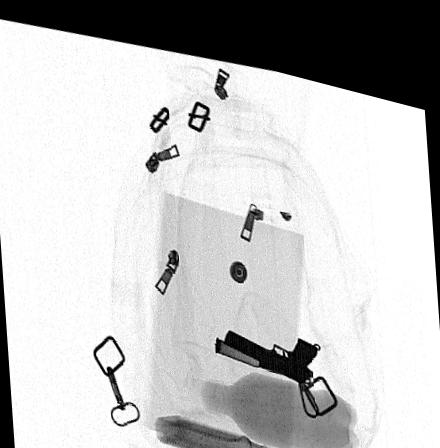Bullet: (216, 327, 294, 360)
Gun: (224, 318, 319, 370)
